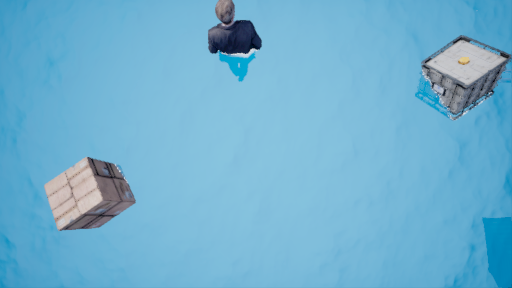person: (204, 6, 264, 79)
